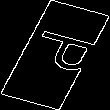P_E: (12, 29, 98, 81)
